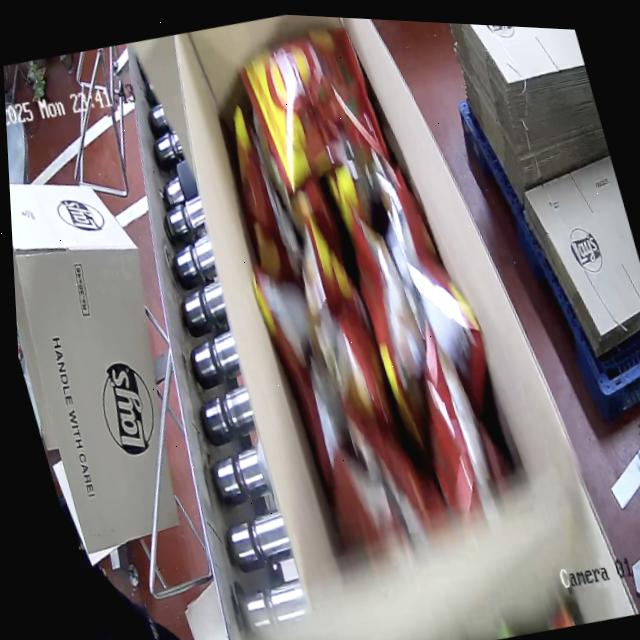MASALA: (182, 9, 529, 543)
